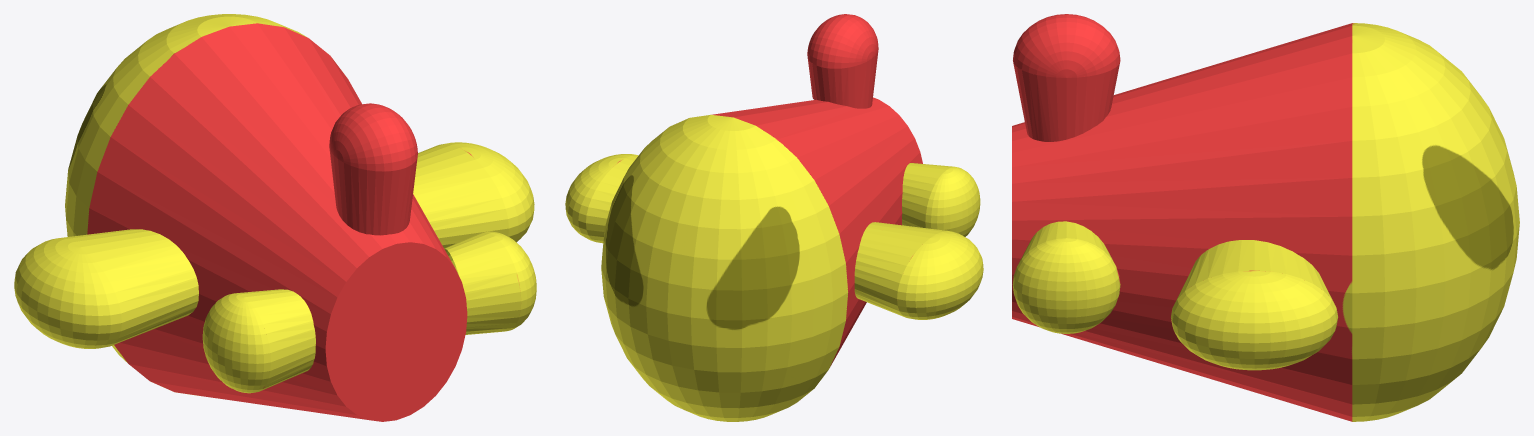
File: enemy.obj
3 renders of one model, left to right at view 1: azimuth 30°, elevation 25°; view 2: azimuth 150°, elevation 25°; view 3: azimuth 270°, elevation 25°, orthographic. The views are drawn at different scales.
Parts seen in each view (by area): view 1: 円柱.002; view 2: 円柱.002; view 3: 円柱.002.
Part boxes in pixels (bbox=[...]): 円柱.002: bbox=[14, 14, 536, 421]; 円柱.002: bbox=[565, 14, 983, 421]; 円柱.002: bbox=[1012, 14, 1519, 421].
Bounding box in the file's own units: 2.67 × 2 × 2.34.
Materials: 1 (1 with a texture image).
